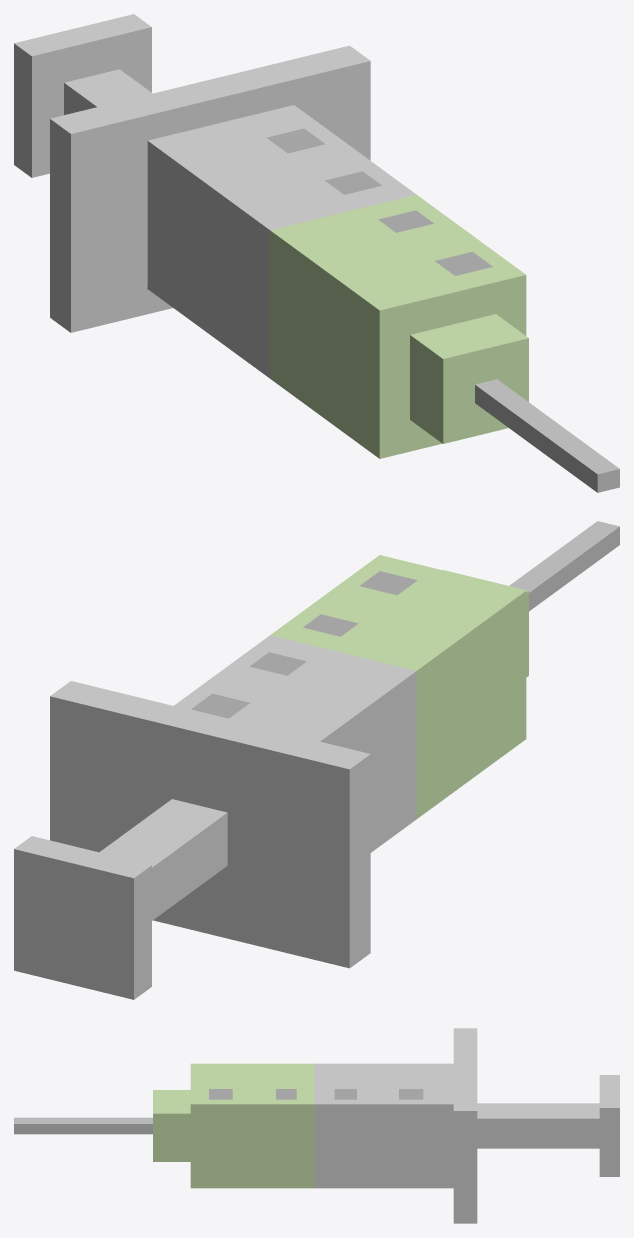
Rendered from syringe_2.fbx.
3 views of the same model, one above another, from view 1: azimuth 30°, elevation 25°; view 2: azimuth 150°, elevation 25°; view 3: azimuth 270°, elevation 25° (orthographic). The views are drawn at different scales.
Parts seen in each view (by area): view 1: Cube_43_2; view 2: Cube_43_2; view 3: Cube_43_2.
Boxes of the visible parts, left/top/right/bottom form: Cube_43_2: left=14, top=14, right=619, bottom=492; Cube_43_2: left=14, top=521, right=619, bottom=999; Cube_43_2: left=14, top=1028, right=619, bottom=1223.
Bounding box in the file's own units: 4.35 × 2.76 × 13.43.
